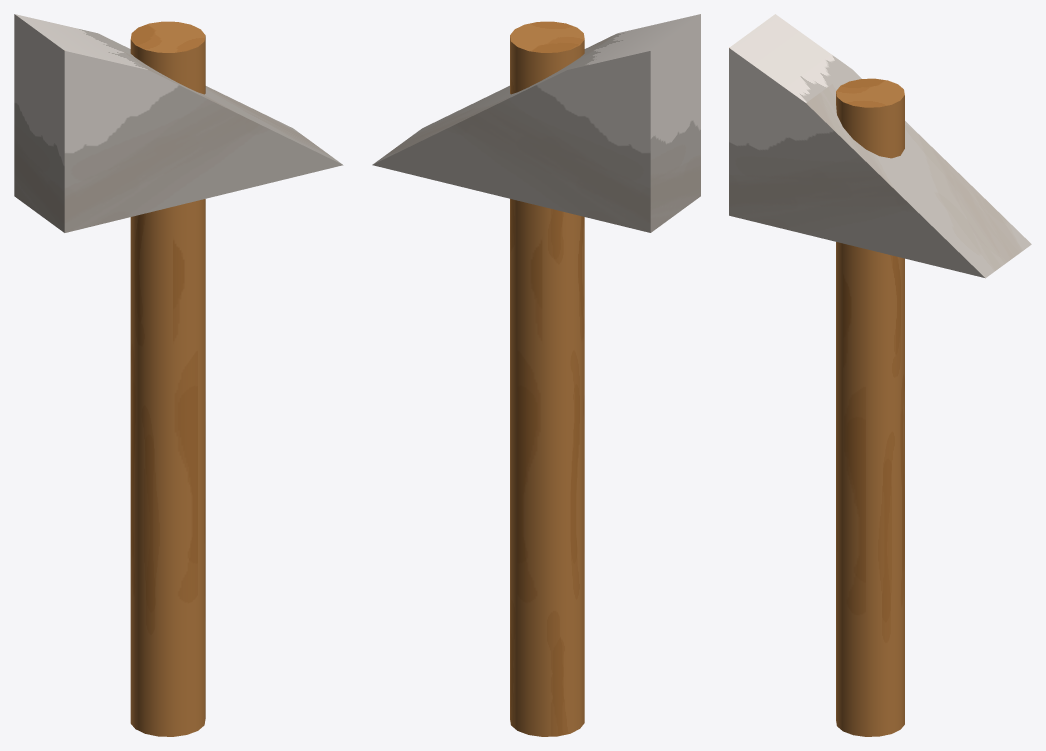
File: axe.fbx
3 views of the same model, side by side, from view 1: azimuth 30°, elevation 25°; view 2: azimuth 150°, elevation 25°; view 3: azimuth 330°, elevation 25° (orthographic). The views are drawn at different scales.
Parts seen in each view (by area): view 1: Cube; view 2: Cube; view 3: Cube.
Part boxes in pixels (box(x1,y1,x2,y2)): Cube: box(14, 14, 343, 736); Cube: box(372, 14, 700, 736); Cube: box(729, 14, 1031, 736).
Size of the model in its own units: 256 by 632 by 80.
1 material, 1 textured.
